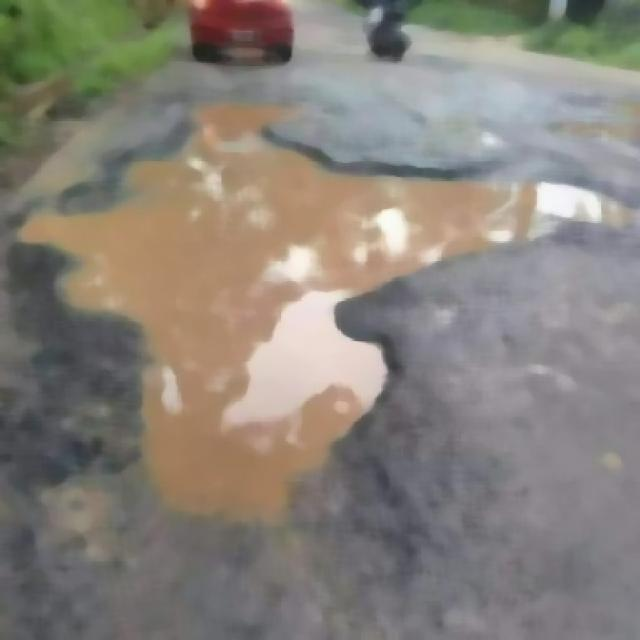Pothole: (54, 102, 509, 528)
